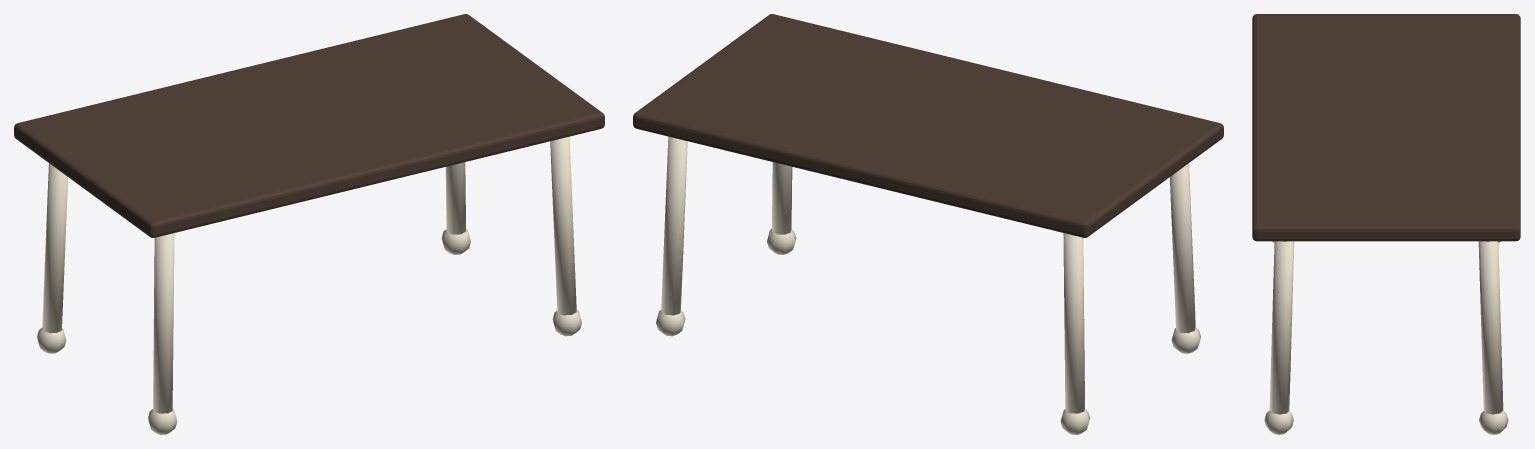
File: table_bone_legs.glb
The picture shows the model from 3 angles, left to right: view 1: azimuth 30°, elevation 25°; view 2: azimuth 150°, elevation 25°; view 3: azimuth 270°, elevation 25°; orthographic projection. The views are drawn at different scales.
Visible parts, largest first — view 1: GD_table_bone_legs__m0, GD_table_bone_legs__m1; view 2: GD_table_bone_legs__m0, GD_table_bone_legs__m1; view 3: GD_table_bone_legs__m0, GD_table_bone_legs__m1.
Part boxes in pixels (x1=…): GD_table_bone_legs__m0: x1=14, y1=14, x2=604, y2=237; GD_table_bone_legs__m1: x1=37, y1=136, x2=581, y2=434; GD_table_bone_legs__m0: x1=633, y1=14, x2=1223, y2=237; GD_table_bone_legs__m1: x1=656, y1=136, x2=1200, y2=434; GD_table_bone_legs__m0: x1=1252, y1=14, x2=1520, y2=241; GD_table_bone_legs__m1: x1=1264, y1=241, x2=1508, y2=434.
Bounding box in the file's own units: 1.8 × 0.8525 × 0.95.
